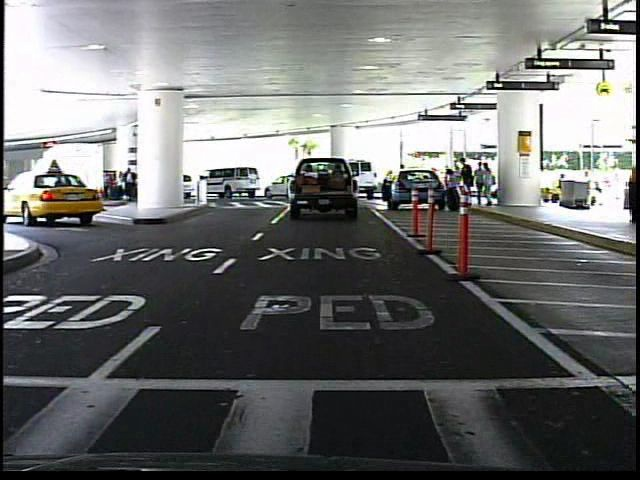person: (444, 167, 464, 216), (394, 160, 410, 200)
